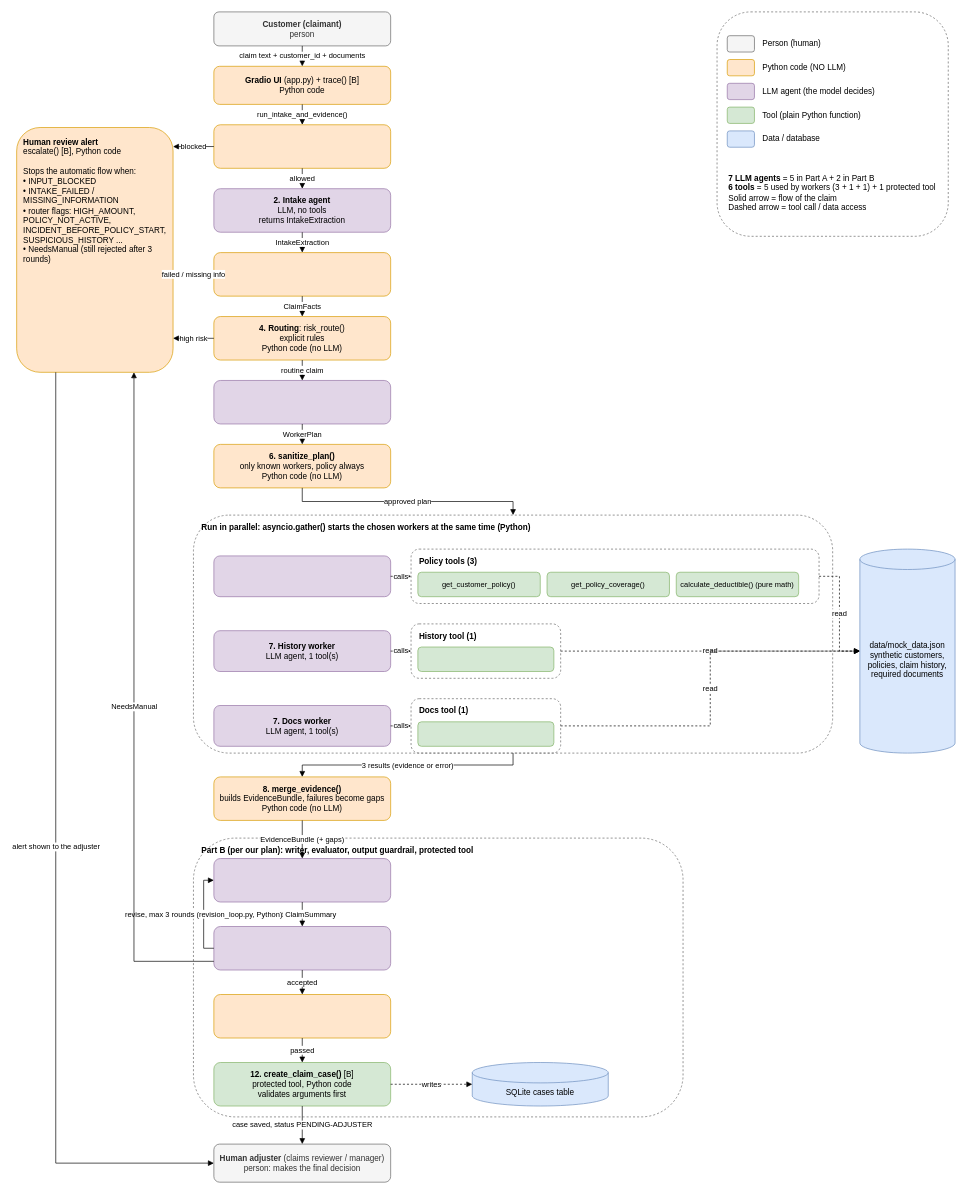
This 967x1194 diagram has some shape labels left out. Each missing label, with the box of its shape:
1. Input guardrail check_input() Python code (no LLM): (213, 124, 391, 168)
10. Evaluator [B] LLM, no tools returns EvaluationResult: (213, 926, 391, 970)
11. Output guardrail [B] check_output() Python code (no LLM): (213, 994, 391, 1038)
3. Intake checks retry once, find missing fields, build ClaimFacts (Python code): (213, 252, 391, 296)
5. Claim orchestrator LLM, no tools chooses which workers to run: (213, 380, 391, 424)
7. Policy worker LLM agent, 3 tool(s): (213, 555, 391, 597)
9. Claim writer [B] LLM, no tools returns ClaimSummary: (213, 858, 391, 902)
check_claim_history(): (417, 646, 554, 672)
check_required_documents(): (417, 721, 554, 746)
Legend: (716, 11, 948, 236)
